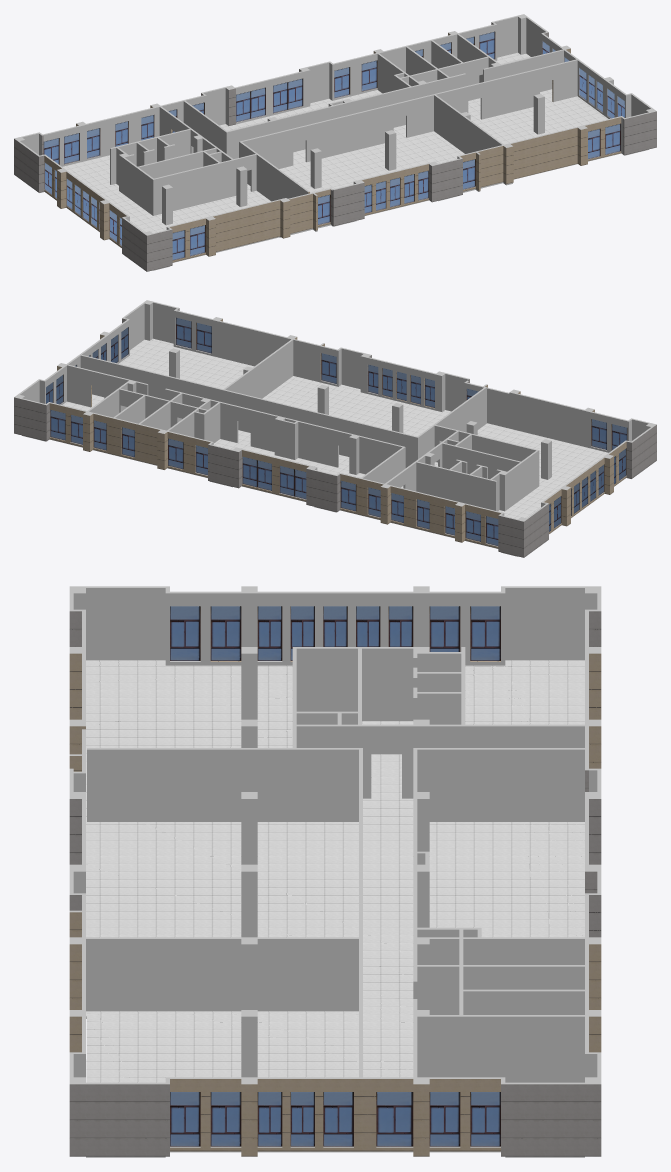
3 views of the same model, one above another, from view 1: azimuth 30°, elevation 25°; view 2: azimuth 150°, elevation 25°; view 3: azimuth 270°, elevation 25° (orthographic). The views are drawn at different scales.
Parts seen in each view (by area): view 1: LC_8F_qiang, LC_8F_diban_G, C_8F_chuang; view 2: LC_8F_qiang, LC_8F_diban_G, C_8F_chuang; view 3: LC_8F_qiang, LC_8F_diban_G, C_8F_chuang.
Part boxes in pixels (x1,y1,x2,y2): LC_8F_qiang: [14, 14, 656, 271]; LC_8F_diban_G: [40, 52, 648, 270]; C_8F_chuang: [43, 31, 624, 260]; LC_8F_qiang: [14, 300, 656, 557]; LC_8F_diban_G: [22, 338, 630, 556]; C_8F_chuang: [46, 317, 627, 545]; LC_8F_qiang: [69, 586, 601, 1156]; LC_8F_diban_G: [86, 660, 584, 1157]; C_8F_chuang: [170, 606, 500, 1146].
Size of the model in its own units: 57600 by 4050 by 26000.
Materials: 5 (4 with a texture image).
